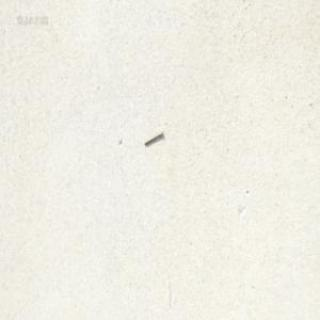Bolttrack_idkeyframe: (142, 129, 162, 146)
